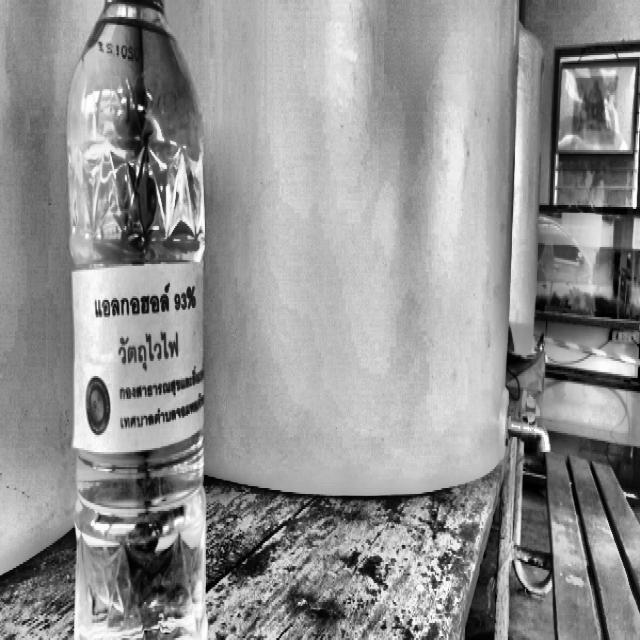waterbottle: (64, 0, 214, 640)
